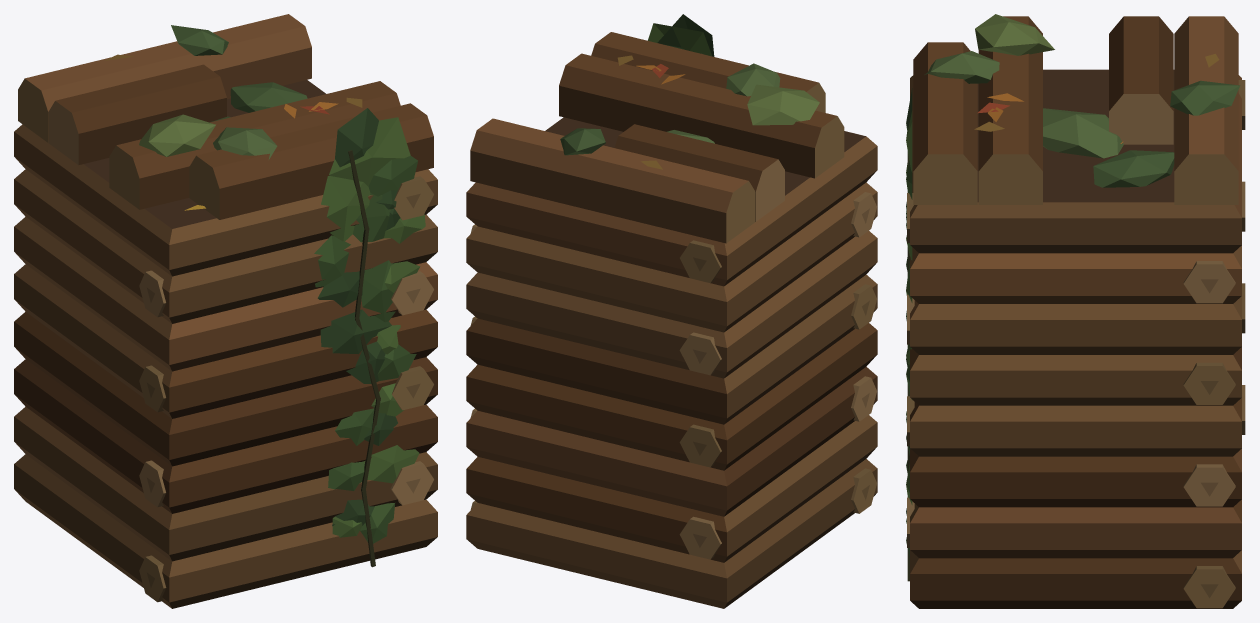
Rendered from parede_madeira_2.glb.
3 views of the same model, side by side, from view 1: azimuth 30°, elevation 25°; view 2: azimuth 150°, elevation 25°; view 3: azimuth 270°, elevation 25° (orthographic). The views are drawn at different scales.
Parts seen in each view (by area): view 1: parede_madeira_2.001; view 2: parede_madeira_2.001; view 3: parede_madeira_2.001.
Part boxes in pixels (x1,y1,x2,y2): parede_madeira_2.001: (14,14,437,608); parede_madeira_2.001: (466,14,877,608); parede_madeira_2.001: (906,14,1245,608).
Bounding box in the file's own units: 1.67 × 2.66 × 1.67.
